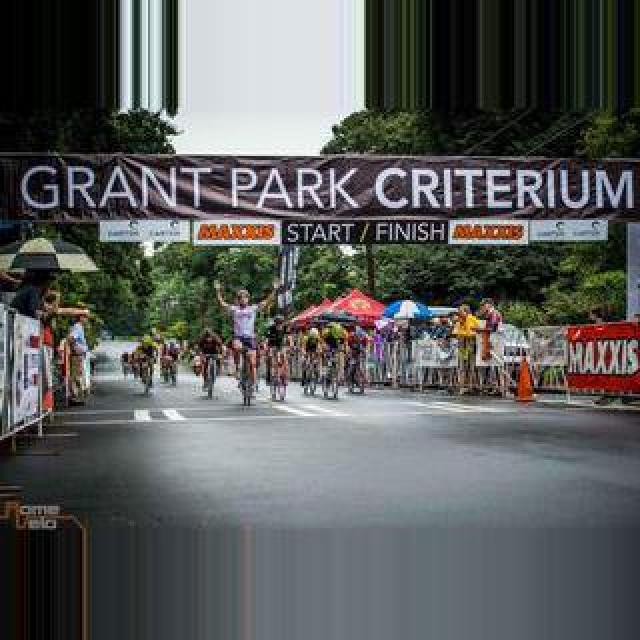MC-Bike: (214, 284, 276, 394), (450, 302, 480, 392), (476, 298, 504, 394), (264, 320, 292, 402), (196, 328, 224, 396)
Person: (266, 344, 292, 402), (302, 344, 324, 396), (320, 346, 342, 398), (344, 348, 366, 394)
